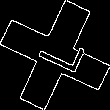L_NW: (25, 30, 85, 80)
